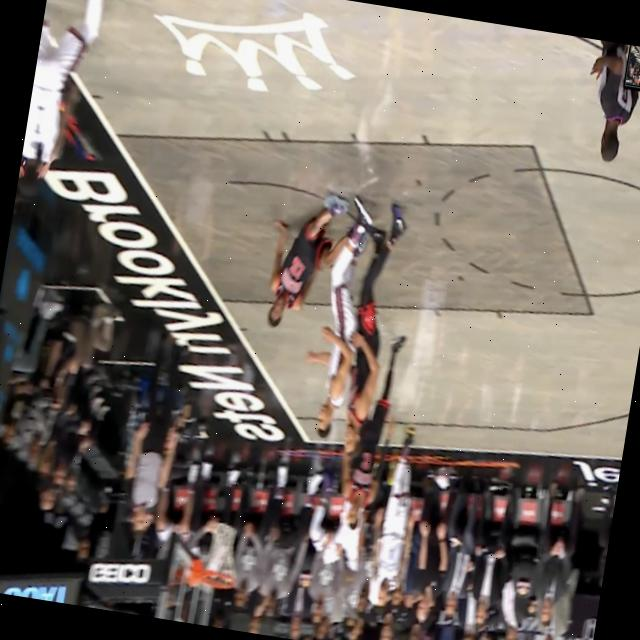foul: (214, 140, 448, 473)
